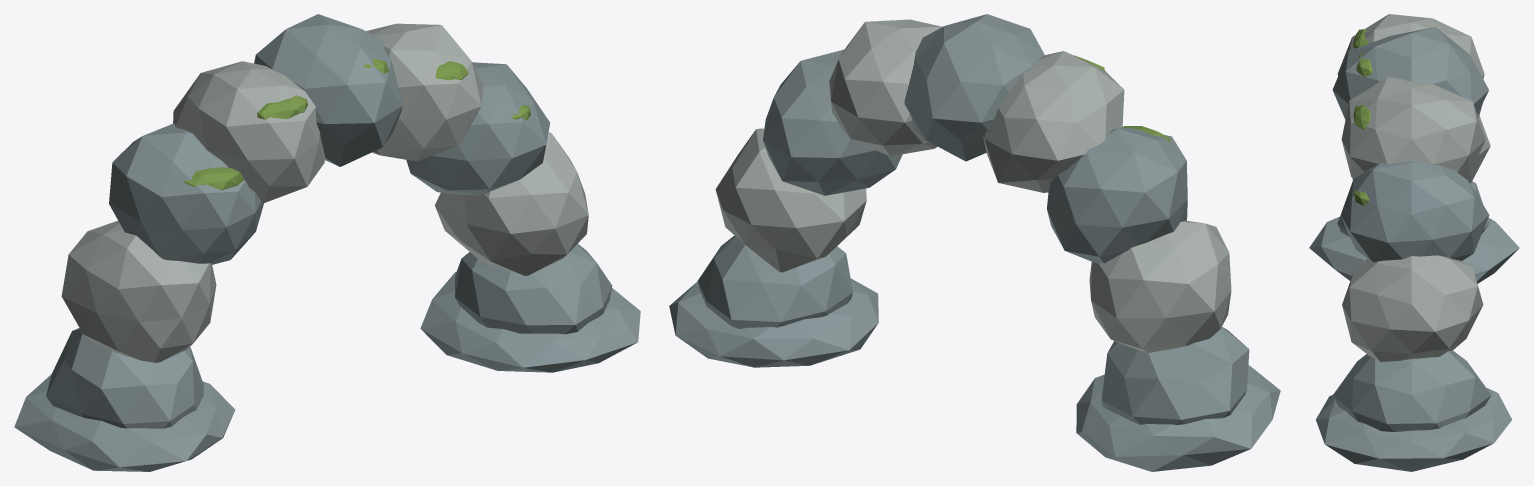
The model's file is stone-arch.glb.
3 views of the same model, side by side, from view 1: azimuth 30°, elevation 25°; view 2: azimuth 150°, elevation 25°; view 3: azimuth 270°, elevation 25° (orthographic). The views are drawn at different scales.
Parts seen in each view (by area): view 1: Arch stone.007, Arch stone.006, Arch stone.005, Arch stone.004, Arch stone.001, Arch stone.008, Foundation, Arch stone.003, Foundation.001, Arch stone, Arch stone.002, Algae patch.005 (+1 smaller); view 2: Arch stone.007, Arch stone.006, Arch stone.005, Arch stone.004, Arch stone.001, Arch stone.008, Arch stone.002, Foundation, Arch stone.003, Foundation.001, Arch stone; view 3: Arch stone.001, Arch stone.002, Arch stone.003, Arch stone, Foundation.001, Arch stone.004, Foundation, Arch stone.005, Arch stone.007, Algae patch.002, Algae patch.003, Arch stone.008.
Boxes of the visible parts, x1,y1,x2,y2 form: Arch stone.007: [61, 220, 216, 362]; Arch stone.006: [109, 123, 263, 264]; Arch stone.005: [173, 61, 324, 203]; Arch stone.004: [254, 14, 402, 166]; Arch stone.001: [435, 132, 588, 275]; Arch stone.008: [46, 328, 203, 428]; Foundation: [14, 374, 235, 471]; Arch stone.003: [366, 23, 482, 161]; Foundation.001: [420, 272, 640, 372]; Arch stone: [455, 244, 612, 334]; Arch stone.002: [406, 62, 549, 195]; Algae patch.005: [184, 167, 243, 190]; Arch stone.007: [1089, 220, 1231, 352]; Arch stone.006: [1047, 127, 1187, 263]; Arch stone.005: [983, 51, 1124, 192]; Arch stone.004: [904, 14, 1044, 161]; Arch stone.001: [715, 128, 866, 272]; Arch stone.008: [1101, 327, 1249, 424]; Arch stone.002: [763, 49, 902, 195]; Foundation: [1076, 365, 1280, 471]; Arch stone.003: [829, 19, 942, 156]; Foundation.001: [669, 278, 878, 367]; Arch stone: [698, 235, 852, 328]; Arch stone.001: [1342, 255, 1483, 361]; Arch stone.002: [1341, 161, 1489, 262]; Arch stone.003: [1341, 77, 1485, 178]; Arch stone: [1333, 350, 1491, 431]; Foundation.001: [1316, 388, 1512, 471]; Arch stone.004: [1332, 27, 1488, 119]; Foundation: [1309, 217, 1519, 283]; Arch stone.005: [1337, 14, 1484, 78]; Arch stone.007: [1352, 115, 1490, 183]; Algae patch.002: [1353, 105, 1370, 129]; Algae patch.003: [1356, 54, 1372, 76]; Arch stone.008: [1337, 181, 1489, 237].
Bounding box in the file's own units: 3.07 × 1.92 × 1.09.
